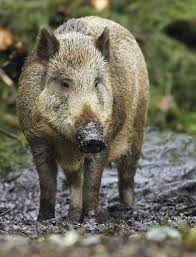boar: (20, 15, 151, 226)
